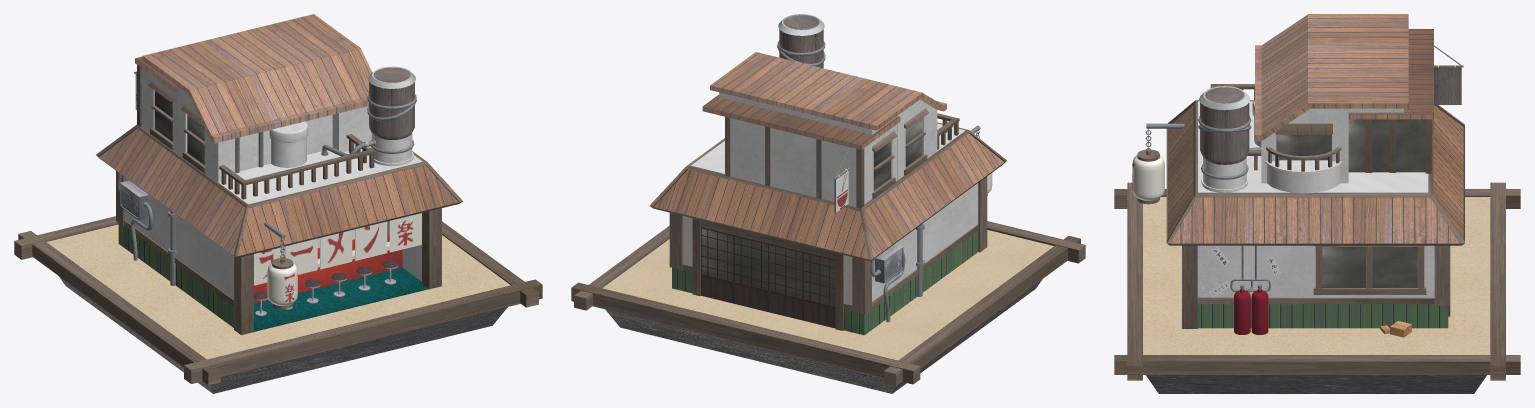
File: ichiraku_ramen_-_naruto.glb
The picture shows the model from 3 angles, left to right: view 1: azimuth 30°, elevation 25°; view 2: azimuth 150°, elevation 25°; view 3: azimuth 270°, elevation 25°; orthographic projection. The views are drawn at different scales.
Parts seen in each view (by area): view 1: polySurface896, polySurface791, polySurface765, polySurface764, polySurface749, polySurface840, polySurface936, polySurface750, polySurface766, polySurface755, polySurface848, polySurface921 (+23 smaller); view 2: polySurface896, polySurface791, polySurface764, polySurface937, polySurface753, polySurface911, polySurface840, polySurface750, polySurface755, polySurface759, polySurface936, polySurface848 (+20 smaller); view 3: polySurface896, polySurface791, polySurface764, polySurface754, polySurface757, polySurface840, polySurface873, polySurface765, polySurface944, polySurface929, polySurface753, polySurface749 (+23 smaller).
Part boxes in pixels (x1,y1,x2,y2): polySurface896: [96, 125, 462, 258]; polySurface791: [47, 224, 510, 359]; polySurface765: [188, 49, 372, 140]; polySurface764: [142, 14, 360, 94]; polySurface749: [184, 279, 542, 383]; polySurface840: [59, 276, 507, 393]; polySurface936: [151, 67, 371, 182]; polySurface750: [18, 231, 220, 385]; polySurface766: [254, 267, 428, 331]; polySurface755: [125, 177, 233, 299]; polySurface848: [119, 224, 233, 327]; polySurface921: [369, 82, 414, 139]; polySurface896: [649, 122, 1006, 261]; polySurface791: [602, 230, 1053, 360]; polySurface764: [710, 52, 922, 130]; polySurface937: [730, 118, 897, 206]; polySurface753: [571, 282, 920, 384]; polySurface911: [701, 228, 835, 306]; polySurface840: [605, 279, 1042, 393]; polySurface750: [884, 236, 1080, 385]; polySurface755: [872, 183, 978, 301]; polySurface759: [702, 94, 900, 149]; polySurface936: [719, 92, 937, 180]; polySurface848: [865, 231, 978, 333]; polySurface896: [1166, 100, 1464, 245]; polySurface791: [1143, 197, 1490, 354]; polySurface764: [1308, 14, 1408, 108]; polySurface754: [1114, 355, 1520, 374]; polySurface757: [1197, 245, 1434, 297]; polySurface840: [1146, 375, 1486, 393]; polySurface873: [1197, 304, 1445, 328]; polySurface765: [1261, 14, 1309, 140]; polySurface944: [1322, 247, 1417, 287]; polySurface929: [1348, 119, 1425, 172]; polySurface753: [1490, 182, 1505, 380]; polySurface749: [1127, 182, 1142, 380].
Bounding box in the file's own units: 11.87 × 7.92 × 11.11.
Materials: 48 (46 with a texture image).
